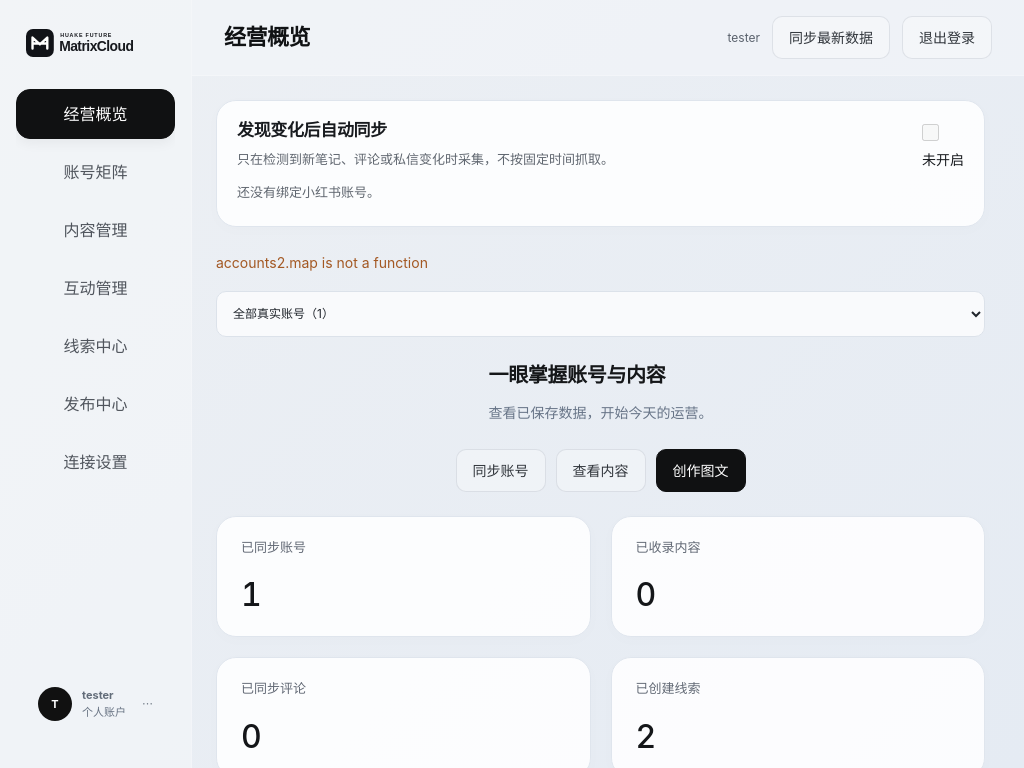
it: follow-up drafts stay with their own lead and clear only after successful save
Check: the text "已同步账号" is shown, box left=241, top=539, right=306, bottom=555
Click the button "线索中心" at (96, 346), box left=16, top=321, right=175, bottom=371
(page scrolled)
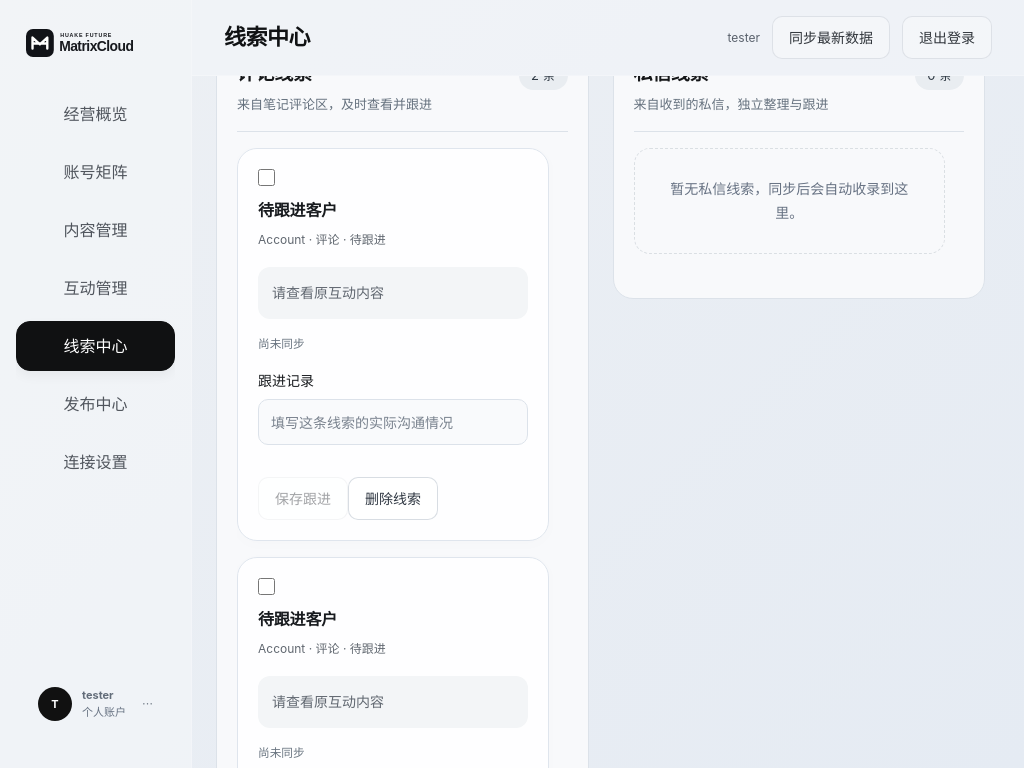
Type "第一条沟通" into the field named "跟进 one" at (393, 422), box left=258, top=400, right=528, bottom=446
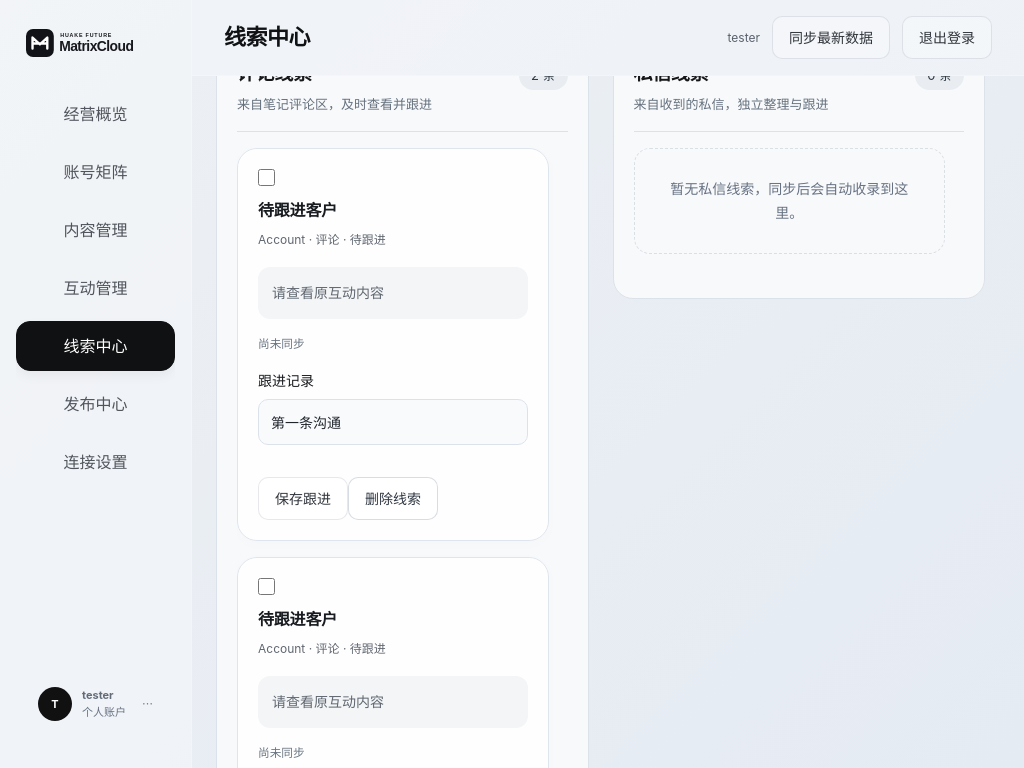
Click the button "保存跟进" at (303, 499), box left=258, top=478, right=348, bottom=520
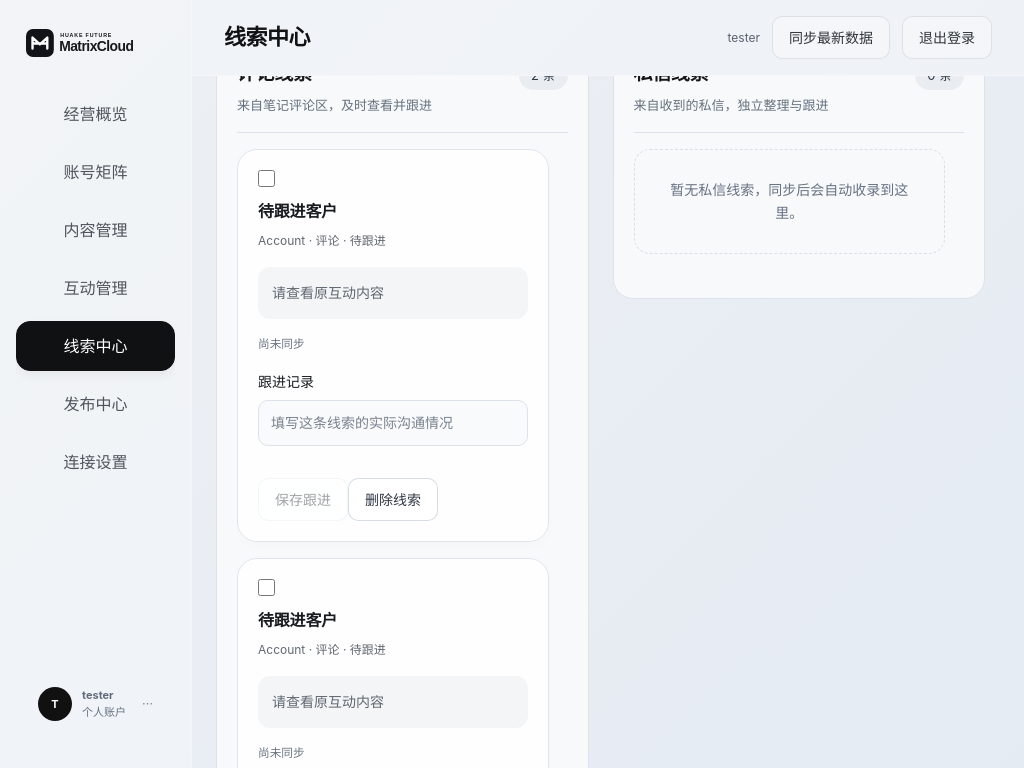
Check: the field named "跟进 one" is empty, box left=258, top=400, right=528, bottom=446
